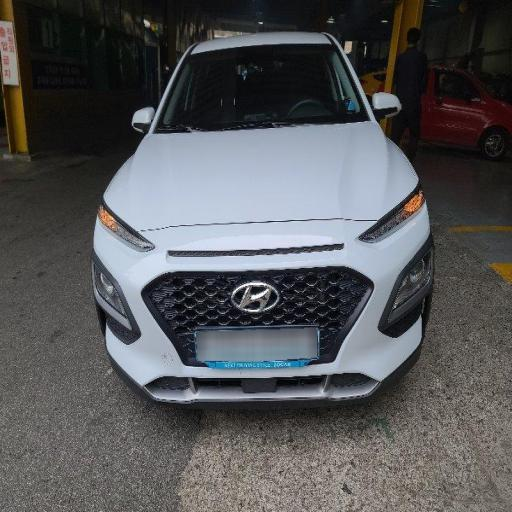dent: (132, 197, 400, 291)
